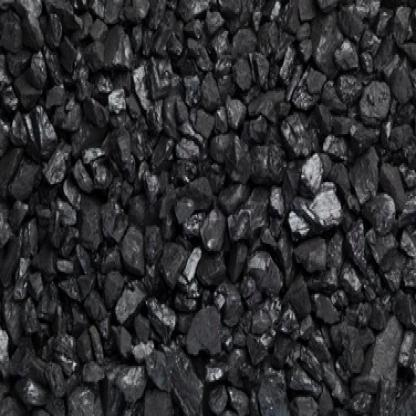Sedimentary_coal: (365, 311, 411, 392), (184, 292, 226, 370), (355, 77, 397, 124), (248, 248, 289, 292), (169, 370, 207, 414), (121, 213, 147, 272), (314, 179, 348, 223), (258, 88, 281, 141), (208, 130, 236, 173), (292, 380, 319, 414)
